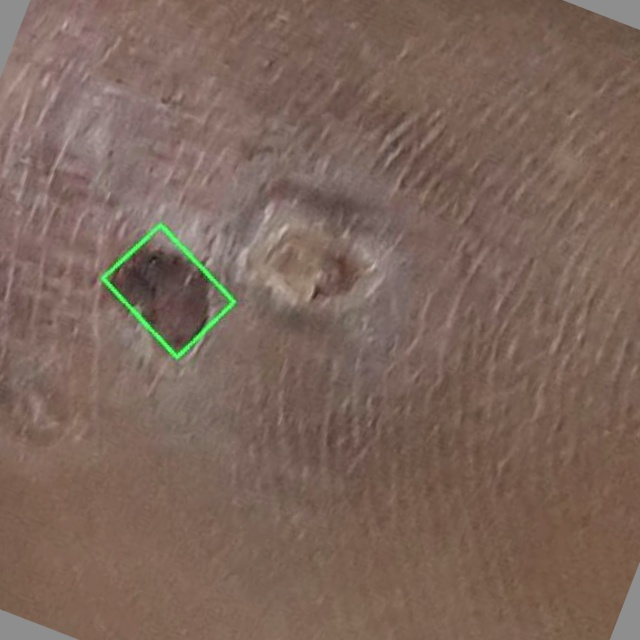Eczema: (103, 224, 234, 357)
